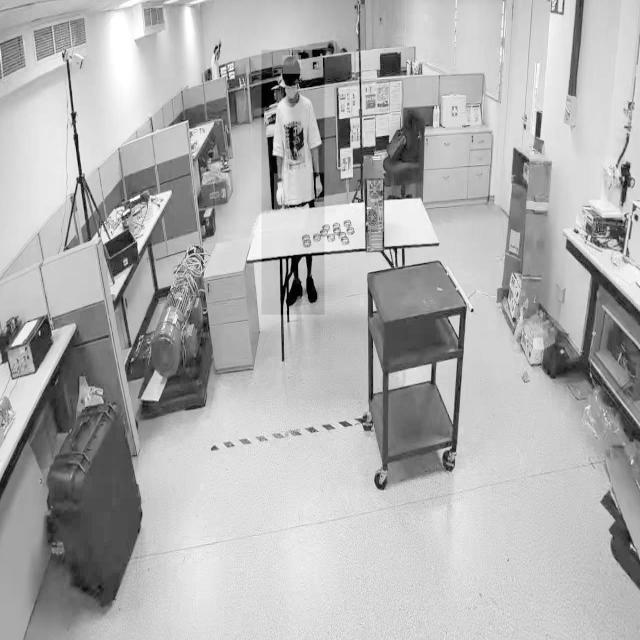face_mask: (283, 66, 299, 104)
hand_glove: (274, 173, 288, 211), (311, 172, 324, 202)
head_nohelmet: (282, 55, 301, 75), (215, 44, 221, 50)
person: (261, 49, 325, 316)
shoes: (284, 274, 304, 312), (304, 272, 323, 308)
